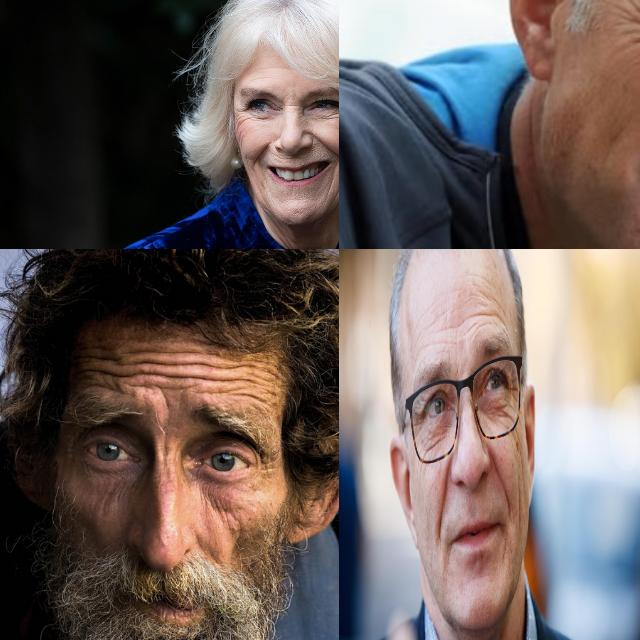chin: (326, 171, 339, 206)
crows_feet: (621, 1, 640, 53), (413, 406, 425, 437), (234, 104, 248, 126), (510, 376, 518, 412)
forehead: (190, 354, 240, 396), (135, 352, 185, 390), (84, 352, 126, 391), (244, 363, 282, 403), (416, 312, 446, 348), (487, 294, 507, 328), (462, 309, 486, 336), (247, 73, 277, 83)
frown_line: (157, 384, 175, 420), (280, 101, 300, 113), (454, 353, 460, 380)
gummy_smile: (491, 451, 511, 512), (437, 465, 451, 535), (314, 134, 339, 160), (250, 144, 272, 168)
masseter: (96, 479, 124, 517), (204, 492, 238, 522), (515, 448, 527, 524)
smoker_lines: (276, 154, 304, 166)
